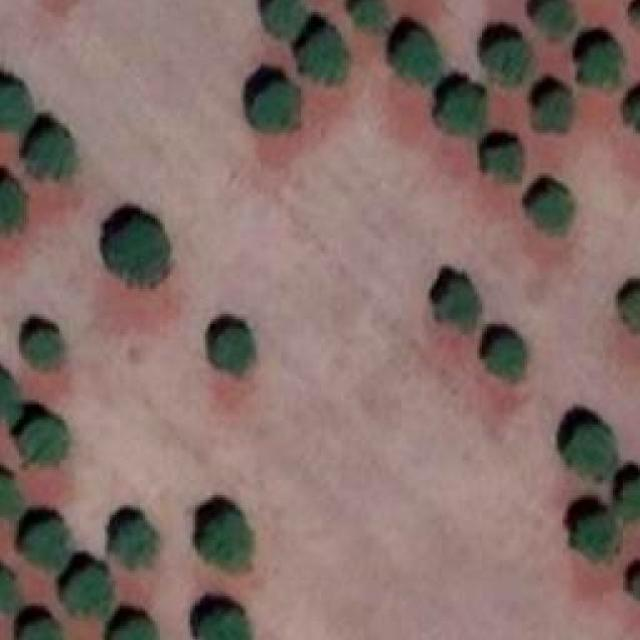Tree: (110, 221, 170, 282), (203, 513, 254, 574), (64, 568, 113, 622), (301, 30, 346, 86), (435, 279, 480, 334), (570, 428, 616, 481), (250, 84, 299, 133), (24, 520, 70, 569), (396, 30, 440, 81), (437, 87, 485, 133), (482, 40, 532, 84), (113, 520, 156, 569), (19, 420, 68, 463), (27, 133, 73, 173), (530, 188, 571, 232), (575, 518, 616, 562), (485, 337, 525, 380), (263, 0, 306, 39), (581, 42, 621, 83), (212, 329, 250, 372), (532, 90, 570, 131), (24, 329, 62, 369), (534, 0, 572, 40), (0, 84, 31, 130), (202, 611, 251, 640), (482, 146, 520, 179), (0, 183, 24, 232), (354, 0, 390, 32), (0, 374, 19, 423), (0, 474, 21, 517), (110, 621, 155, 640), (22, 621, 66, 640), (620, 291, 640, 331), (620, 480, 640, 520), (0, 573, 19, 614)
